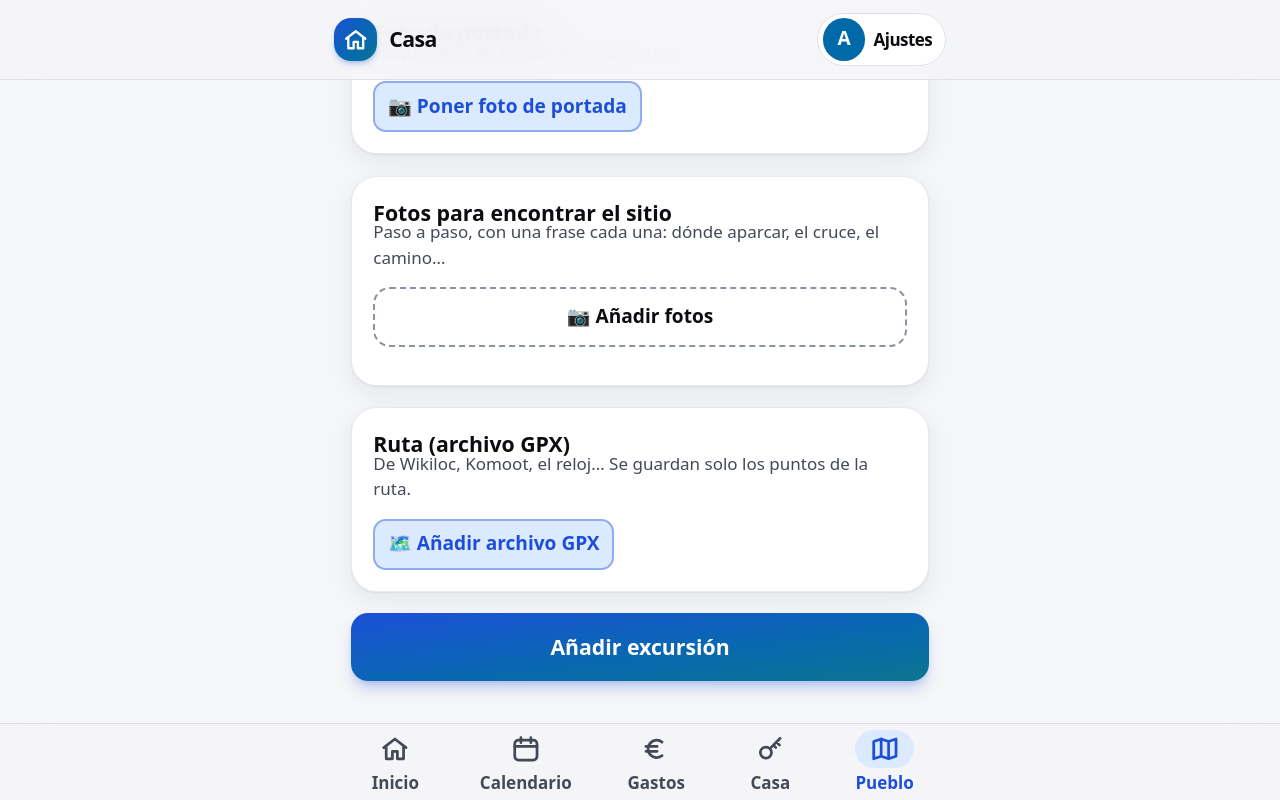
Test: excursiones › sin nombre no se guarda y lo explica
(page scrolled)
Click the button "Añadir excursión": (640, 647) x1=351 y1=613 x2=929 y2=681
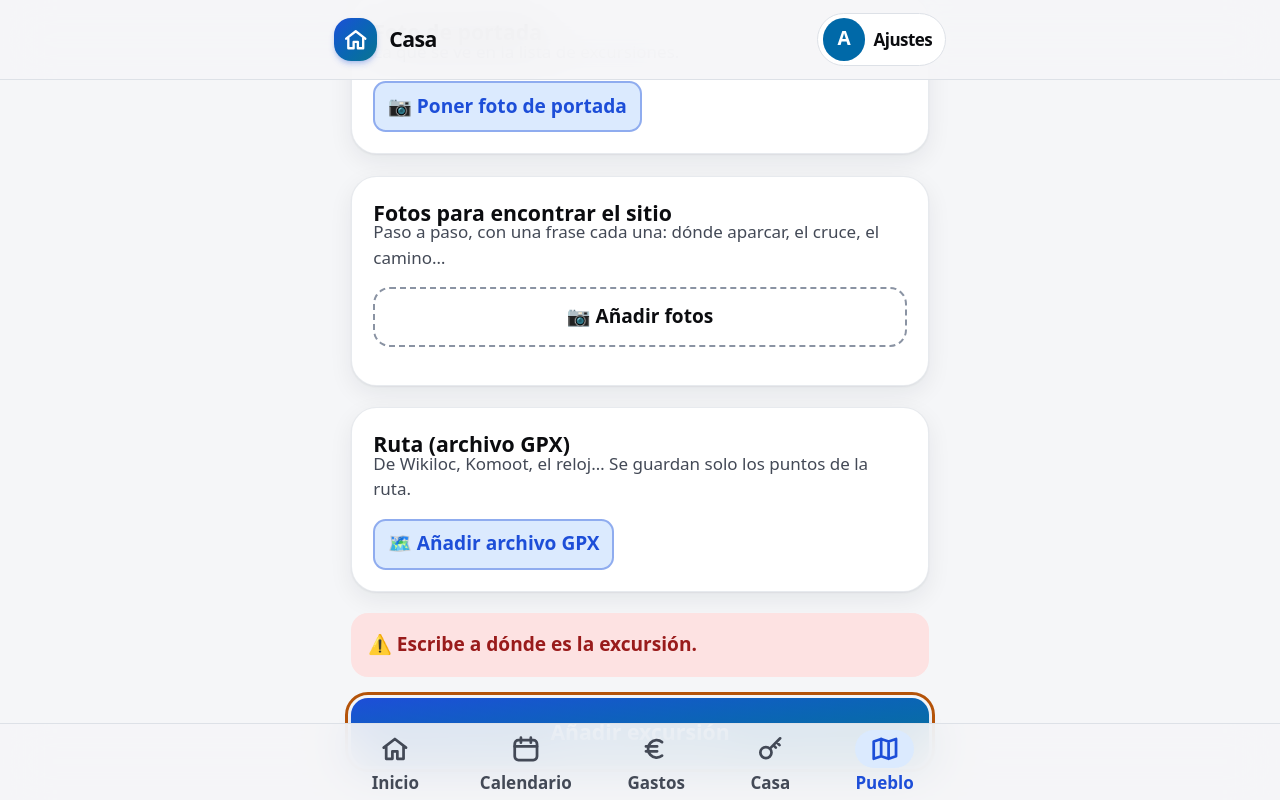
Result: the text "Escribe a dónde es la excursión." is shown at x1=397 y1=631 x2=697 y2=657
